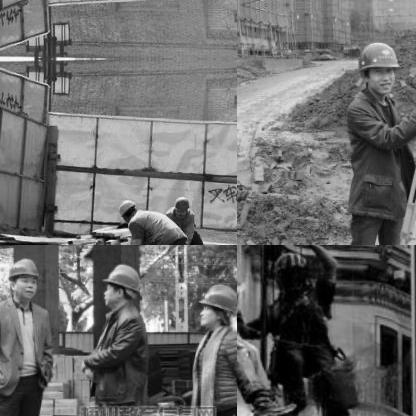Helmet: (350, 36, 400, 98), (194, 280, 236, 330), (99, 260, 139, 312), (4, 254, 42, 302), (116, 196, 139, 220), (172, 193, 188, 217)
